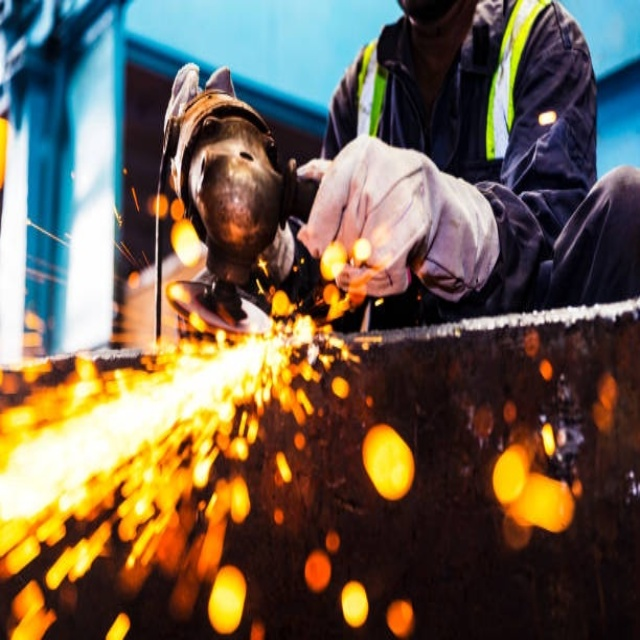Guantes: (294, 130, 501, 303)
Mascara: (190, 116, 285, 273)
